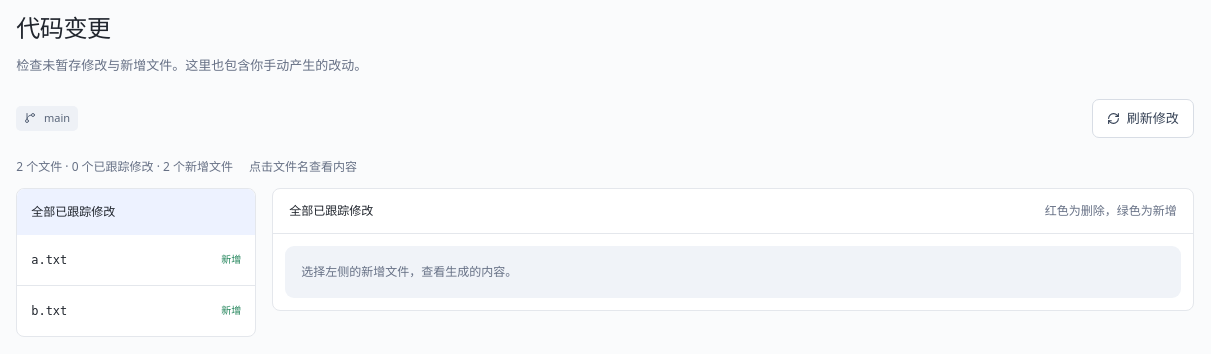
快速切换文件时较慢的旧预览不会覆盖当前文件
Click the button with aria-label "查看 a.txt" at (136, 260), box [23,239,249,281]
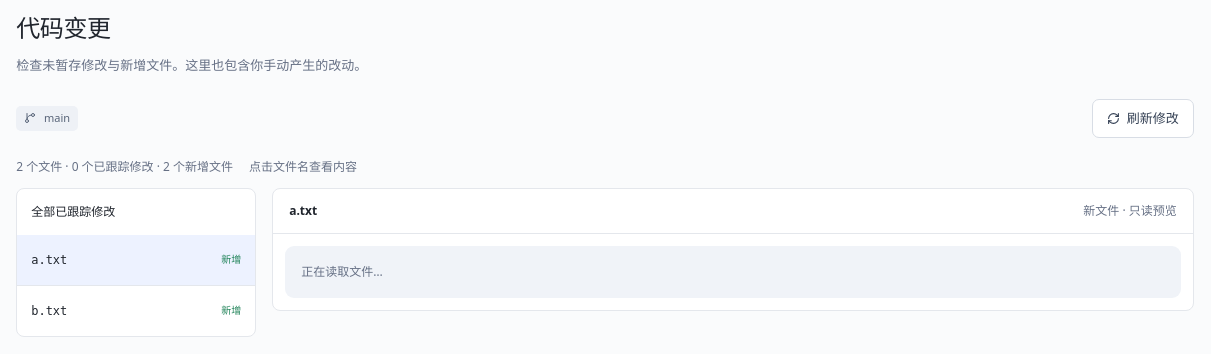
Click the button with aria-label "查看 b.txt" at (136, 311), box [23,290,249,332]
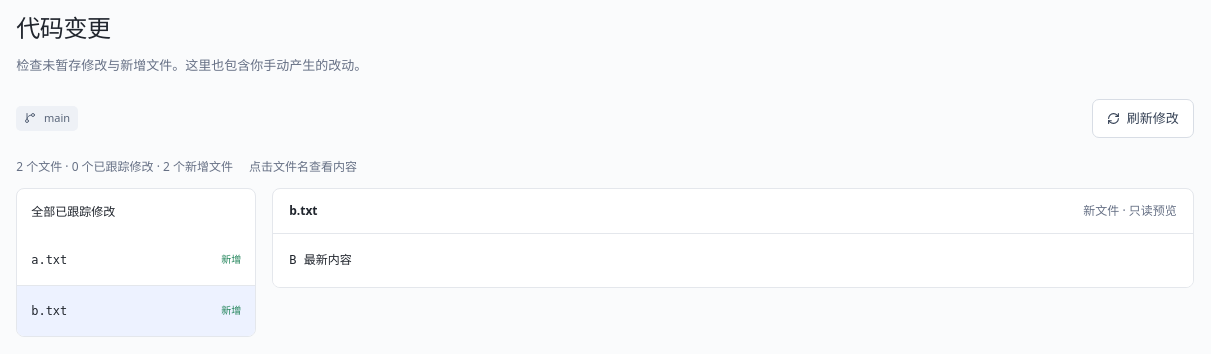
Expected: the text "B 最新内容" is shown, [273,234,1193,287]
